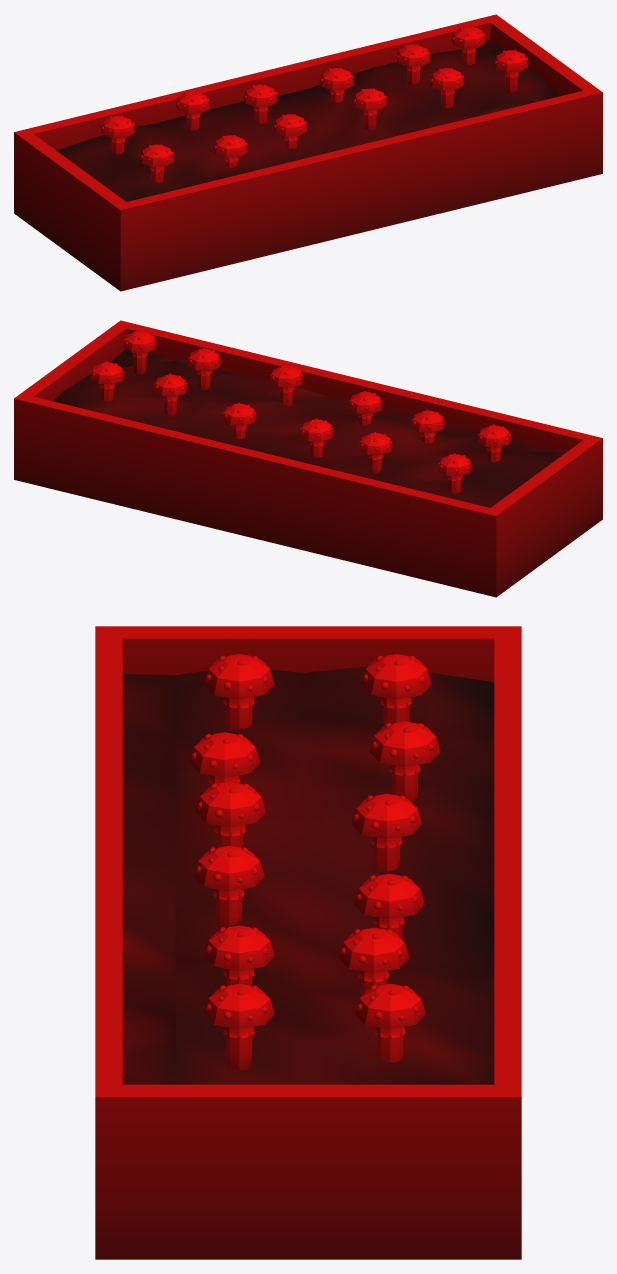
File: ConcreteGardenBed003.glb
The picture shows the model from 3 angles, top to bottom: view 1: azimuth 30°, elevation 25°; view 2: azimuth 150°, elevation 25°; view 3: azimuth 270°, elevation 25°; orthographic projection. The views are drawn at different scales.
Parts seen in each view (by area): view 1: ConcreteGardenBed003; view 2: ConcreteGardenBed003; view 3: ConcreteGardenBed003.
Boxes of the visible parts, x1,y1,x2,y2 form: ConcreteGardenBed003: (14,14,602,291); ConcreteGardenBed003: (14,320,602,597); ConcreteGardenBed003: (95,626,521,1259).
Bounding box in the file's own units: 10.23 × 2.22 × 3.92.
